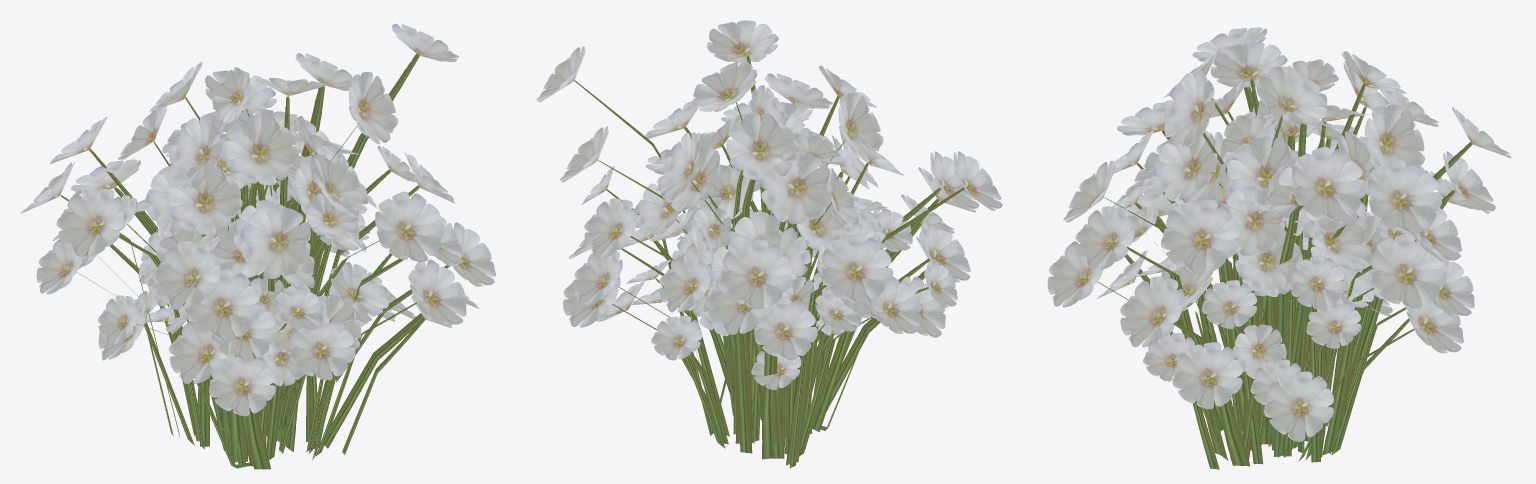
The model's file is SM_Ground_White2_Flower_C.fbx.
3 views of the same model, side by side, from view 1: azimuth 30°, elevation 25°; view 2: azimuth 150°, elevation 25°; view 3: azimuth 270°, elevation 25° (orthographic). The views are drawn at different scales.
Parts seen in each view (by area): view 1: SM_Ground_White2_Flower_C_LOD0; view 2: SM_Ground_White2_Flower_C_LOD0; view 3: SM_Ground_White2_Flower_C_LOD0.
Part boxes in pixels (x1=…): SM_Ground_White2_Flower_C_LOD0: x1=20, y1=23, x2=496, y2=469; SM_Ground_White2_Flower_C_LOD0: x1=536, y1=20, x2=1002, y2=467; SM_Ground_White2_Flower_C_LOD0: x1=1047, y1=27, x2=1511, y2=469.
Size of the model in its own units: 33.38 by 30.23 by 28.01.
1 material, 1 textured.
